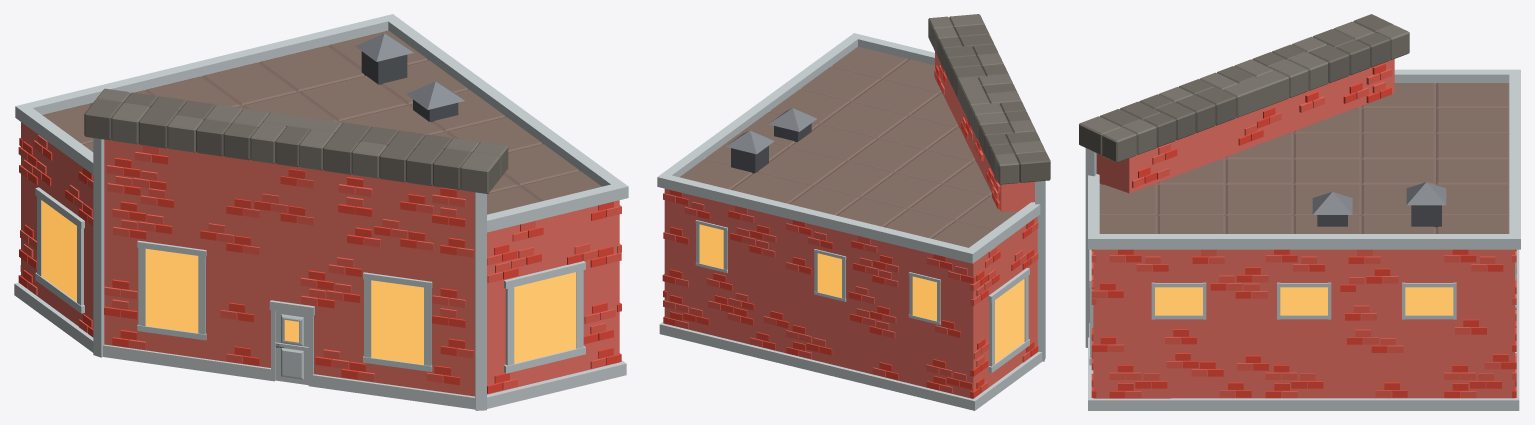
Rendered from SM_House_19.fbx.
The picture shows the model from 3 angles, left to right: view 1: azimuth 30°, elevation 25°; view 2: azimuth 150°, elevation 25°; view 3: azimuth 270°, elevation 25°; orthographic projection. The views are drawn at different scales.
Parts seen in each view (by area): view 1: SM_House_19_LOD0; view 2: SM_House_19_LOD0; view 3: SM_House_19_LOD0.
Boxes of the visible parts, x1,y1,x2,y2 form: SM_House_19_LOD0: (14,14,628,410); SM_House_19_LOD0: (657,14,1050,410); SM_House_19_LOD0: (1079,14,1520,410).
Size of the model in its own units: 1371 by 1467 by 819.
1 material, 1 textured.
